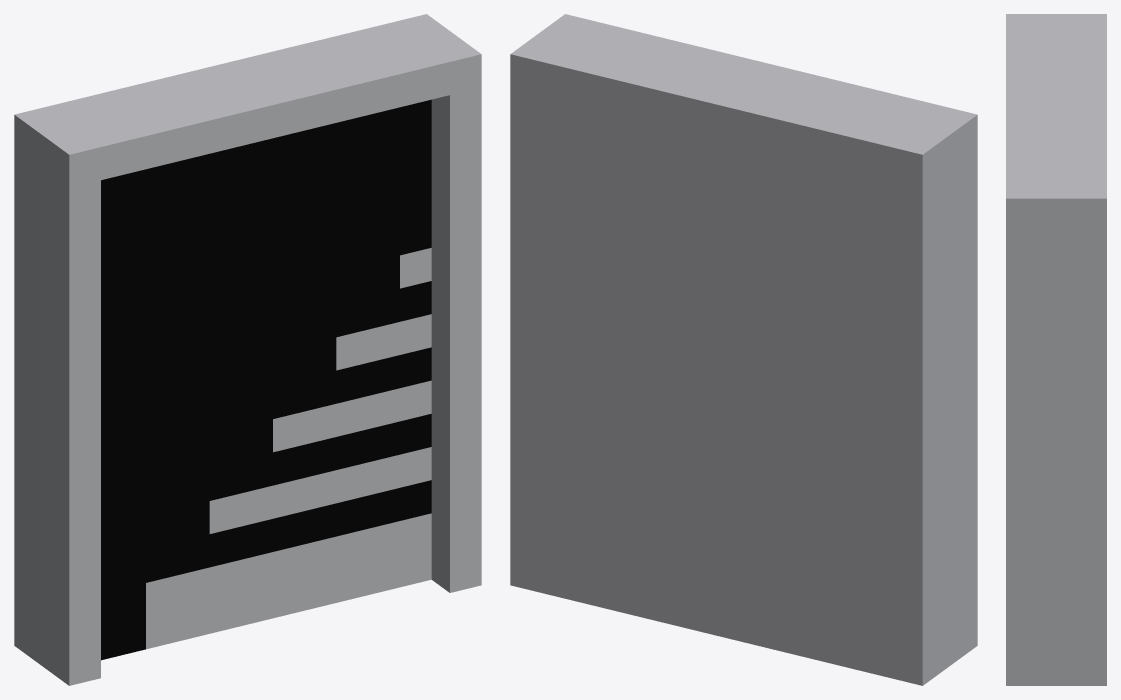
The model's file is dungeon_d_a_entrance_b.obj.
3 renders of one model, left to right at view 1: azimuth 30°, elevation 25°; view 2: azimuth 150°, elevation 25°; view 3: azimuth 270°, elevation 25°, orthographic. The views are drawn at different scales.
Bounding box in the file's own units: 1.3 × 1.6 × 0.3.
Materials: 1 (1 with a texture image).
